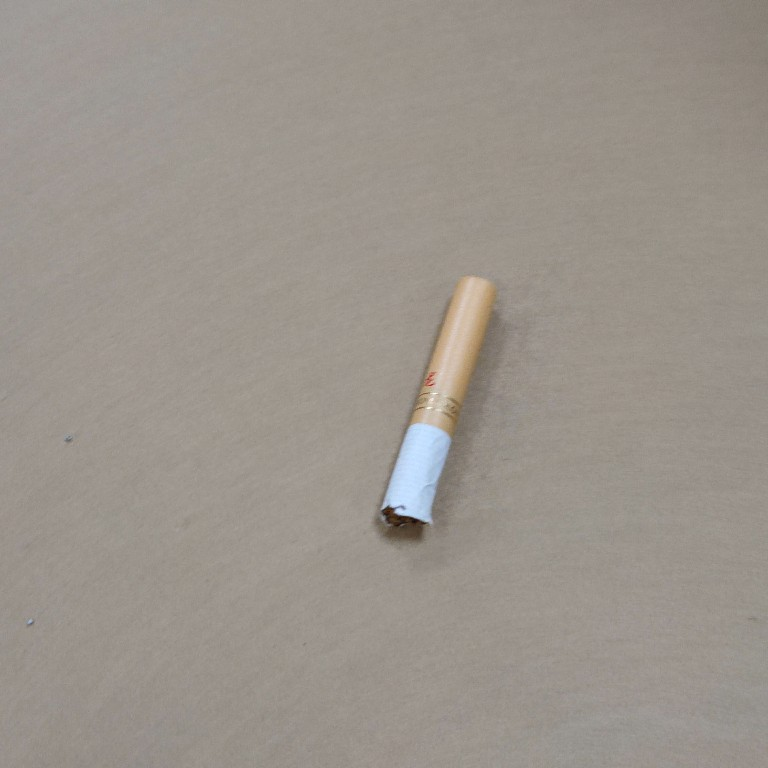cigarette: (372, 270, 503, 533)
